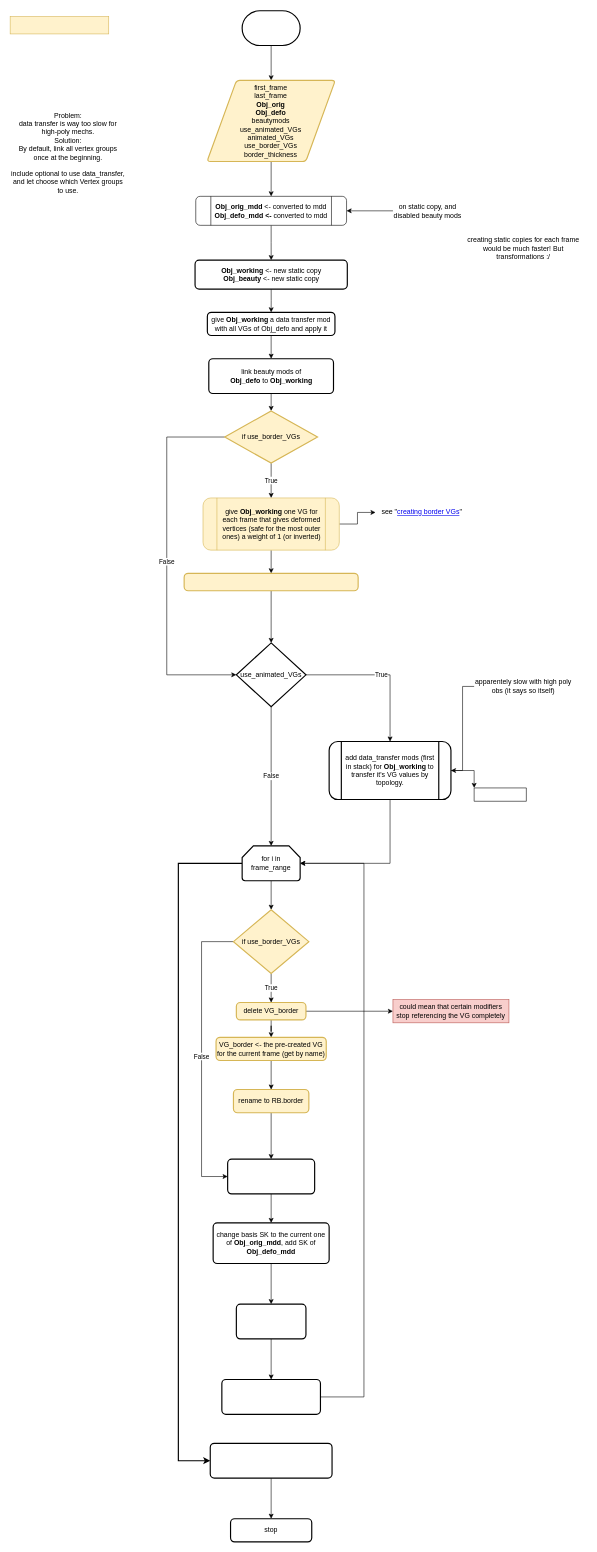
The diagram is 597 pixels wide and 1552 high, and some of its shapes have lost their labels. The shapes that lost their labels are listed below. From the top down, each one's centre as x and y in pixels, then its label:
point (59, 25): Changes made to previous version = yellow
point (270, 28): Start
point (270, 581): VG_border <- existing VG with name "RB.border"
point (500, 794): Container
point (271, 1176): delete all SKs of Obj_working
point (270, 1321): rebind any binding modifiers
point (271, 1397): transfer current shape to Obj_beauty and keyframe to 1
point (270, 1460): delete Obj_orig_mdd , Obj_defo_mdd , Obj_working
